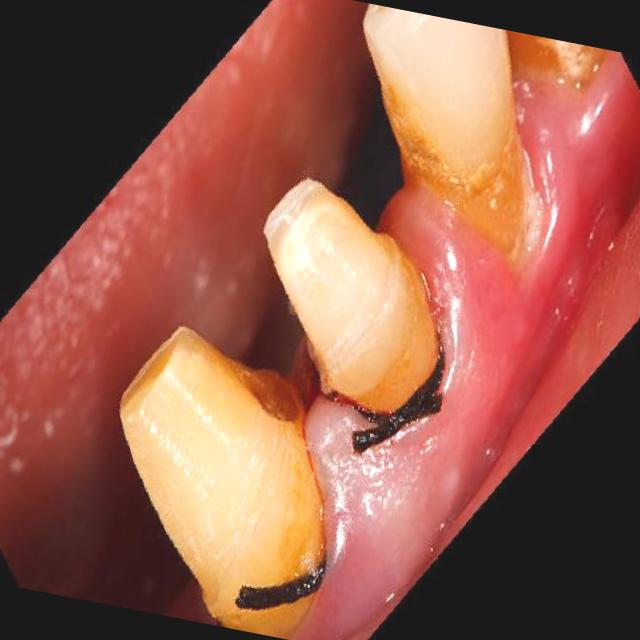calculus: (162, 420, 352, 630), (297, 258, 468, 443)
